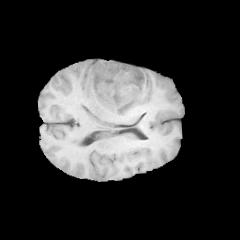glioma: (88, 60, 152, 115)
